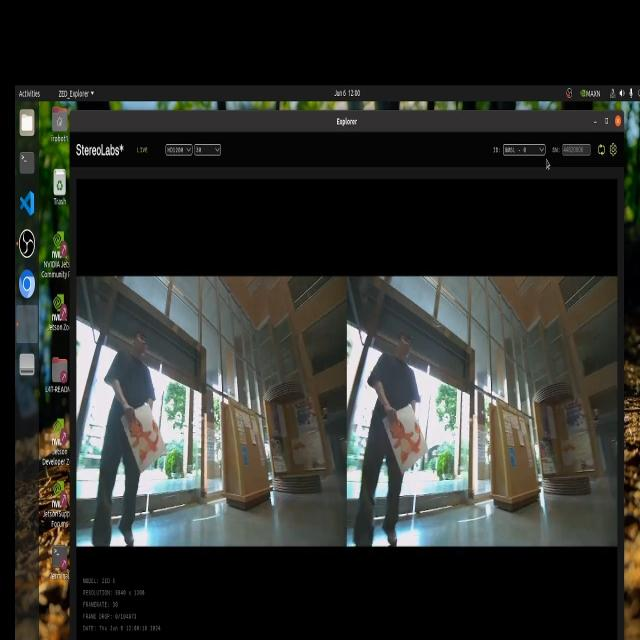red: (380, 406, 426, 465), (125, 412, 163, 463)
